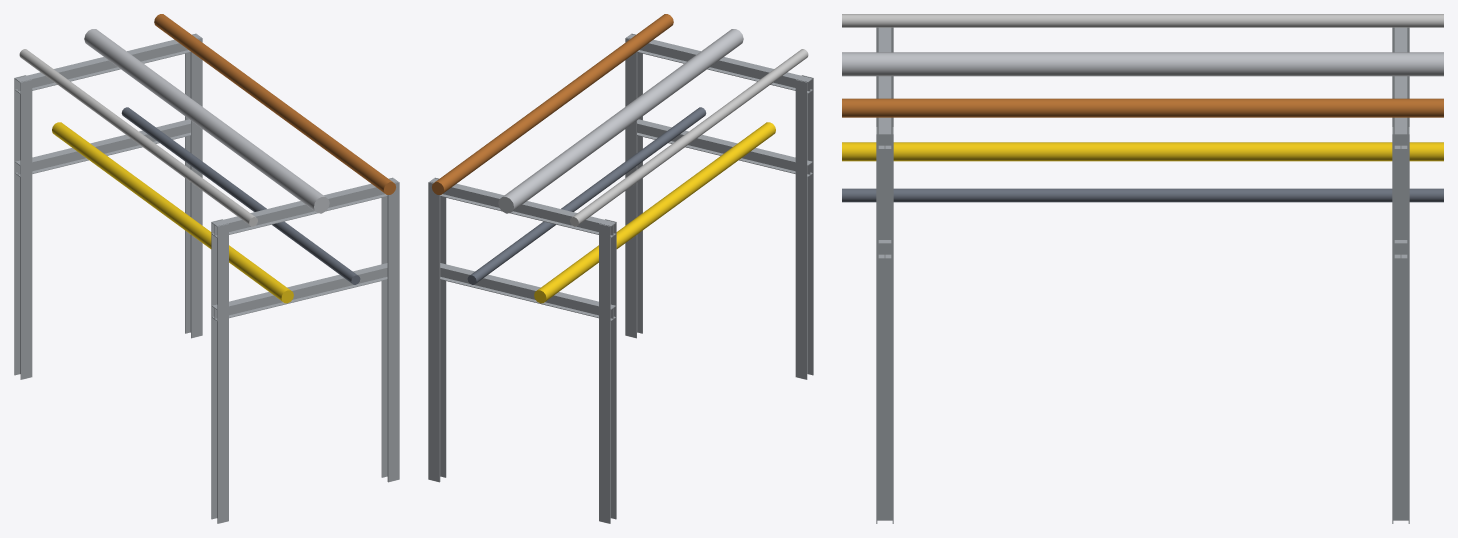
The model's file is industrial.process.pipe_rack.glb.
3 renders of one model, left to right at view 1: azimuth 30°, elevation 25°; view 2: azimuth 150°, elevation 25°; view 3: azimuth 270°, elevation 25°, orthographic. The views are drawn at different scales.
Visible parts, largest first — view 1: main__steel_galvanised, main__insulation, main__copper, main__plastic_yellow, main__steel_stainless, main__steel_painted; view 2: main__steel_galvanised, main__insulation, main__copper, main__plastic_yellow, main__steel_stainless, main__steel_painted; view 3: main__steel_galvanised, main__insulation, main__copper, main__plastic_yellow, main__steel_painted, main__steel_stainless.
Boxes of the visible parts, box(x1,y1,x2,y2) form: main__steel_galvanised: box(14, 33, 399, 523); main__insulation: box(84, 29, 329, 213); main__copper: box(154, 14, 395, 194); main__plastic_yellow: box(52, 122, 293, 303); main__steel_stainless: box(19, 49, 257, 226); main__steel_painted: box(121, 107, 360, 284); main__steel_galvanised: box(428, 33, 813, 523); main__insulation: box(498, 29, 743, 213); main__copper: box(432, 14, 673, 194); main__plastic_yellow: box(534, 122, 775, 303); main__steel_stainless: box(570, 49, 808, 226); main__steel_painted: box(467, 107, 706, 284); main__steel_galvanised: box(876, 27, 1409, 523); main__insulation: box(842, 52, 1443, 76); main__copper: box(842, 98, 1443, 117); main__plastic_yellow: box(842, 142, 1443, 161); main__steel_painted: box(842, 188, 1443, 202); main__steel_stainless: box(842, 14, 1443, 27).
Bounding box in the file's own units: 3.2 × 5.29 × 7.
